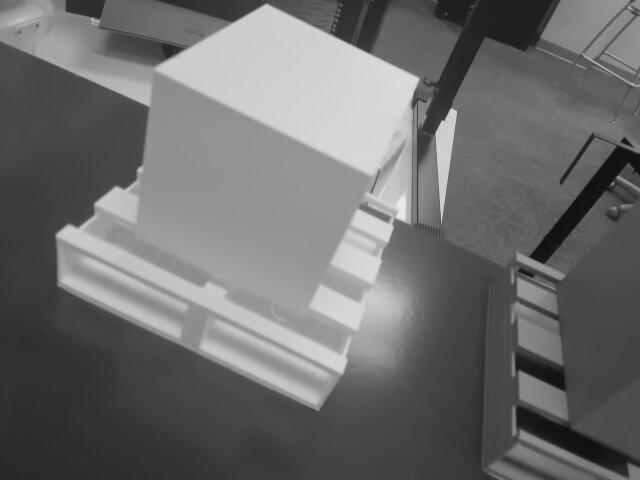grey pallet: (476, 184, 640, 480)
white pallet: (49, 3, 423, 415)
